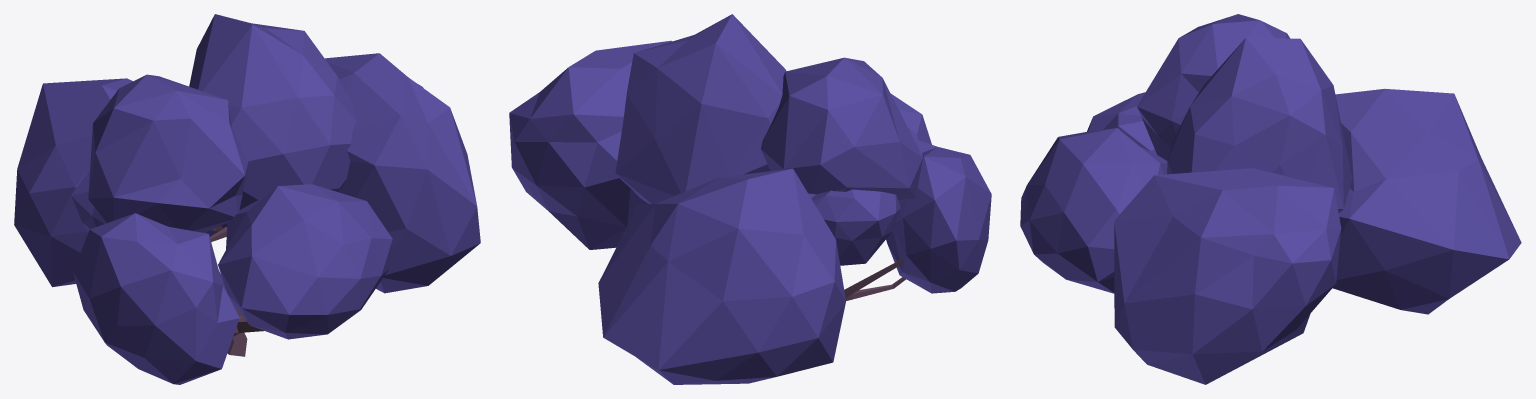
Rendered from bush2.fbx.
3 renders of one model, left to right at view 1: azimuth 30°, elevation 25°; view 2: azimuth 150°, elevation 25°; view 3: azimuth 270°, elevation 25°, orthographic. The views are drawn at different scales.
Parts seen in each view (by area): view 1: bush2; view 2: bush2; view 3: bush2.
Boxes of the visible parts, x1=… form: bush2: x1=14, y1=14, x2=480, y2=384; bush2: x1=509, y1=14, x2=991, y2=384; bush2: x1=1020, y1=14, x2=1521, y2=384.
Bounding box in the file's own units: 270 × 204 × 286.
